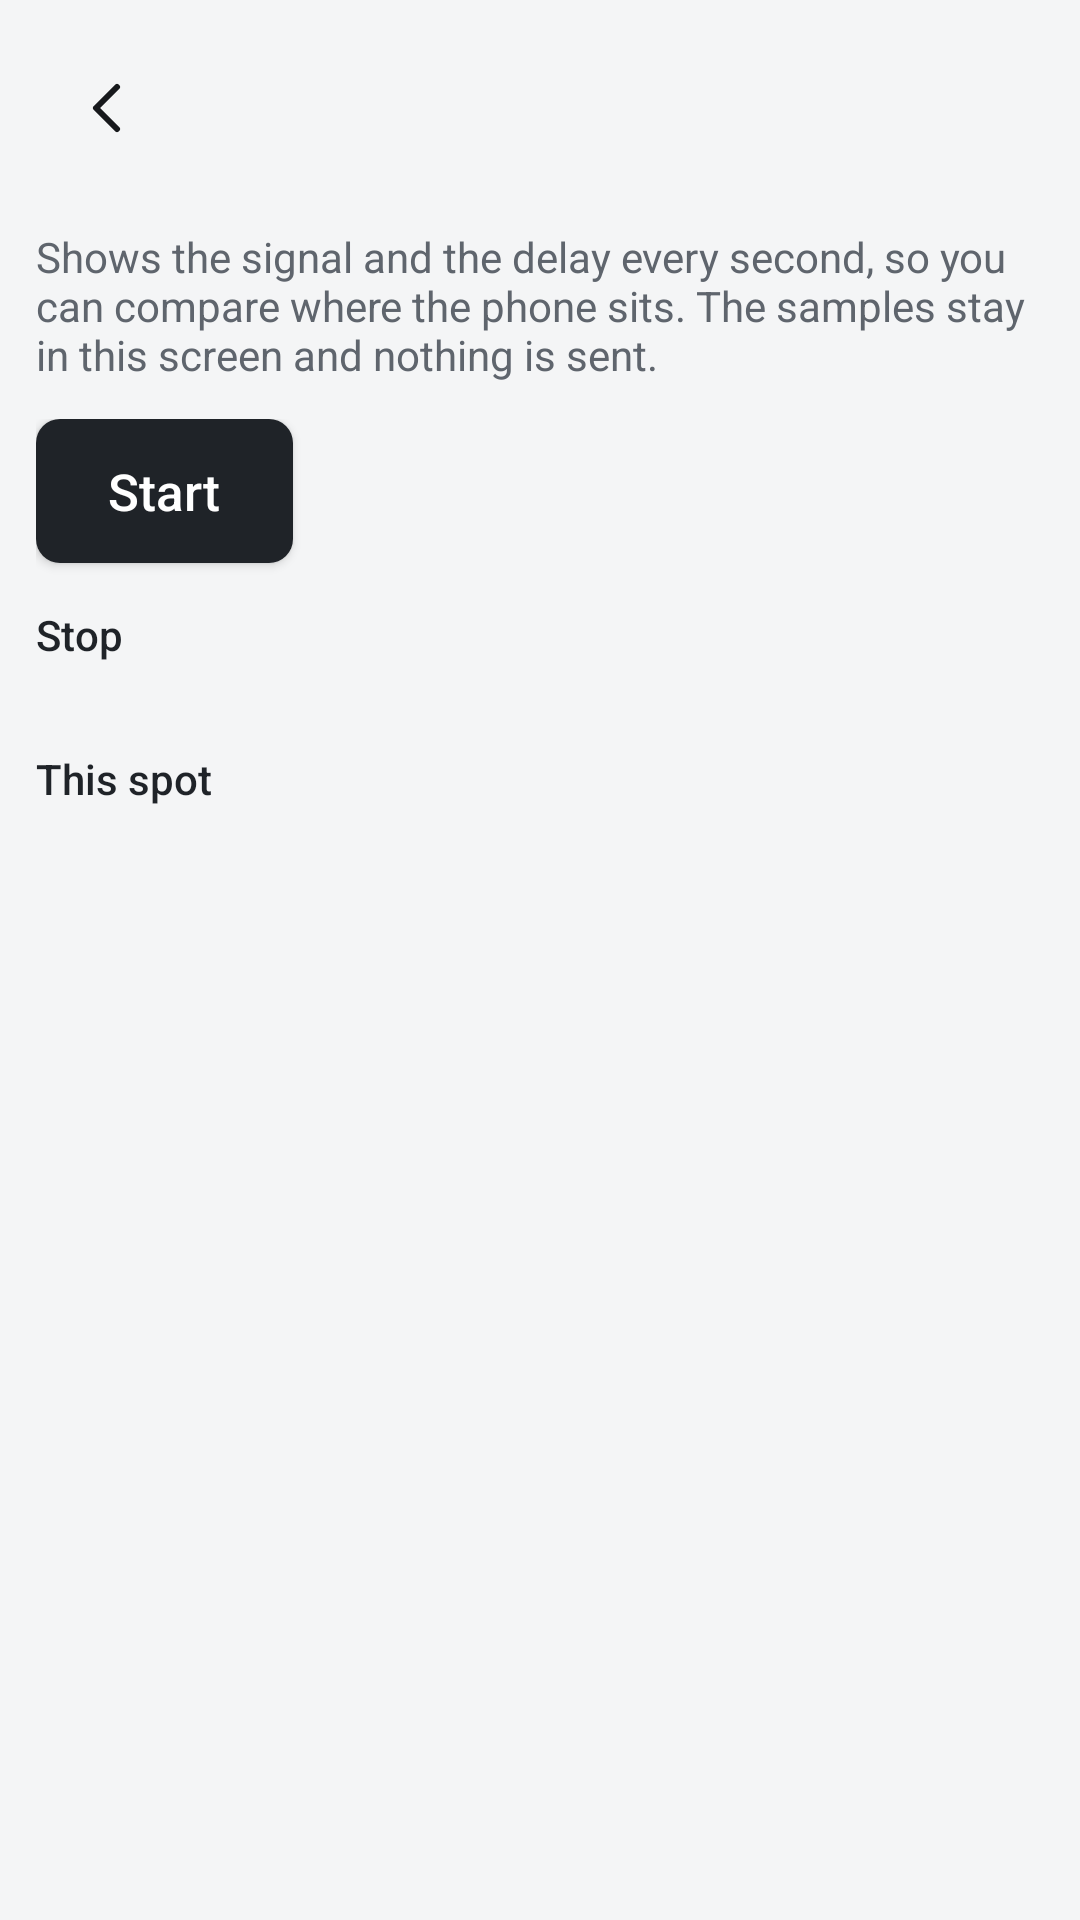

Icon bounding boxes for this 1080px×1920px phone screenshot, format (x1, y1, x2, y2):
Back: (93, 84, 120, 132)
